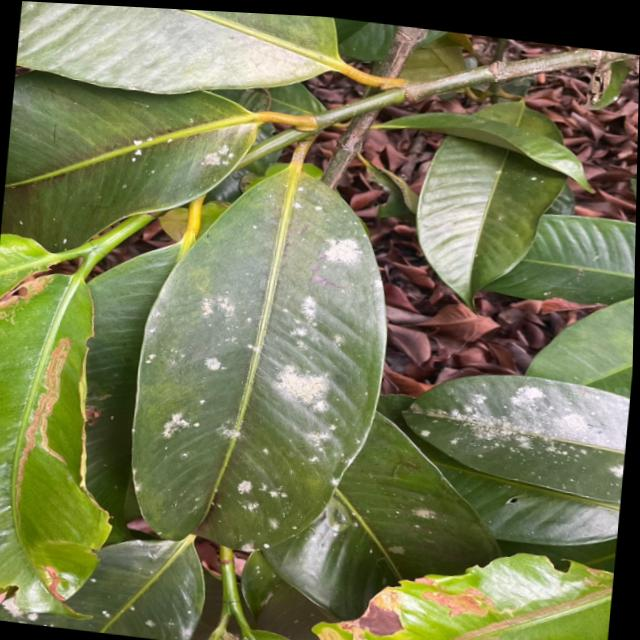Leaf Spot: (204, 233, 421, 496), (447, 363, 632, 481)
